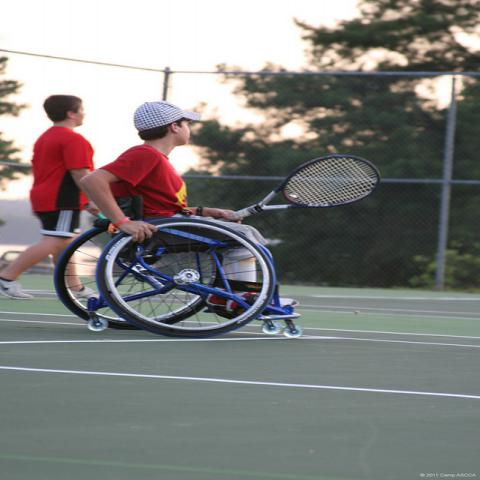car: (0, 251, 53, 275)
